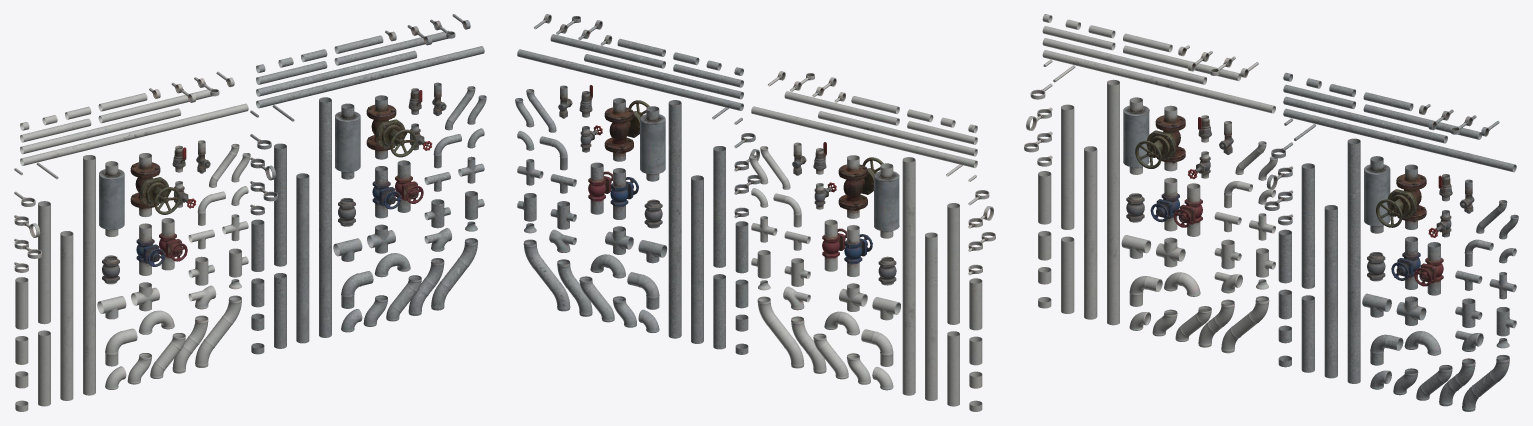
3 views of the same model, side by side, from view 1: azimuth 30°, elevation 25°; view 2: azimuth 150°, elevation 25°; view 3: azimuth 330°, elevation 25° (orthographic). The views are drawn at different scales.
Parts seen in each view (by area): view 1: pipe_200cm_pvc, pipe_200cm_metal, pipe_140cm_metal, pipe_140cm_pvc, pipe_thin_200cm_pvc, pipe_thin_200cm_metal, pipe_valve_large_metal, pipe_valve_large_pvc, pipe_chamber_large_metal, pipe_chamber_large_pvc, pipe_100cm_metal, pipe_100cm_pvc (+35 smaller); view 2: pipe_200cm_pvc, pipe_200cm_metal, pipe_140cm_pvc, pipe_140cm_metal, pipe_thin_200cm_metal, pipe_thin_200cm_pvc, pipe_chamber_large_metal, pipe_chamber_large_pvc, pipe_valve_large_pvc, pipe_valve_large_metal, pipe_100cm_metal, pipe_100cm_pvc (+35 smaller); view 3: pipe_200cm_metal, pipe_200cm_pvc, pipe_140cm_metal, pipe_140cm_pvc, pipe_thin_200cm_metal, pipe_thin_200cm_pvc, pipe_valve_large_pvc, pipe_valve_large_metal, pipe_100cm_pvc, pipe_100cm_metal, pipe_chamber_large_pvc, pipe_chamber_large_metal (+33 smaller).
Boxes of the visible parts, left/top/right/bottom form: pipe_200cm_pvc: left=83, top=155, right=95, bottom=395; pipe_200cm_metal: left=319, top=97, right=331, bottom=337; pipe_140cm_metal: left=296, top=173, right=309, bottom=343; pipe_140cm_pvc: left=60, top=231, right=73, bottom=400; pipe_thin_200cm_pvc: left=20, top=103, right=248, bottom=165; pipe_thin_200cm_metal: left=256, top=46, right=484, bottom=108; pipe_valve_large_metal: left=366, top=95, right=416, bottom=159; pipe_valve_large_pvc: left=130, top=153, right=180, bottom=217; pipe_chamber_large_metal: left=335, top=103, right=360, bottom=179; pipe_chamber_large_pvc: left=99, top=161, right=124, bottom=236; pipe_100cm_metal: left=274, top=143, right=286, bottom=266; pipe_100cm_pvc: left=38, top=201, right=50, bottom=324; pipe_200cm_pvc: left=902, top=157, right=915, bottom=395; pipe_200cm_metal: left=668, top=100, right=681, bottom=338; pipe_140cm_pvc: left=925, top=232, right=937, bottom=400; pipe_140cm_metal: left=691, top=175, right=703, bottom=343; pipe_thin_200cm_metal: left=517, top=49, right=743, bottom=110; pipe_thin_200cm_pvc: left=751, top=106, right=977, bottom=167; pipe_chamber_large_metal: left=640, top=106, right=665, bottom=181; pipe_chamber_large_pvc: left=874, top=163, right=899, bottom=238; pipe_valve_large_pvc: left=838, top=155, right=883, bottom=218; pipe_valve_large_metal: left=604, top=98, right=649, bottom=161; pipe_100cm_metal: left=713, top=146, right=725, bottom=267; pipe_100cm_pvc: left=947, top=203, right=959, bottom=324; pipe_200cm_metal: left=1347, top=138, right=1360, bottom=383; pipe_200cm_pvc: left=1107, top=79, right=1119, bottom=325; pipe_140cm_metal: left=1324, top=205, right=1337, bottom=378; pipe_140cm_pvc: left=1084, top=146, right=1097, bottom=319; pipe_thin_200cm_metal: left=1283, top=108, right=1516, bottom=172; pipe_thin_200cm_pvc: left=1042, top=50, right=1275, bottom=113; pipe_valve_large_pvc: left=1135, top=105, right=1185, bottom=171; pipe_valve_large_metal: left=1376, top=164, right=1426, bottom=229; pipe_100cm_pvc: left=1061, top=104, right=1074, bottom=229; pipe_100cm_metal: left=1301, top=163, right=1314, bottom=288; pipe_chamber_large_pvc: left=1123, top=97, right=1149, bottom=174; pipe_chamber_large_metal: left=1364, top=156, right=1390, bottom=233.
Size of the model in its own units: 4.19 by 2.43 by 0.4578.
2 materials, 2 textured.
